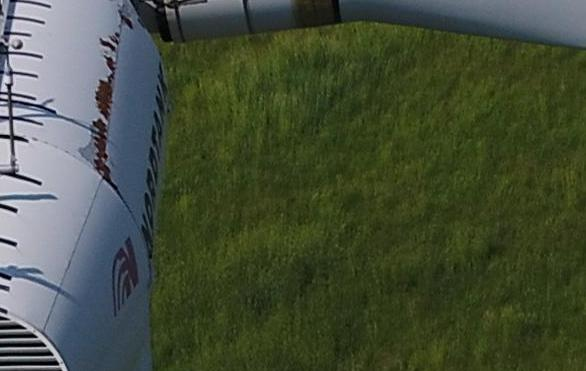damage: (96, 160, 132, 209), (95, 52, 116, 118), (92, 118, 109, 160), (99, 31, 120, 52), (119, 10, 133, 30)
